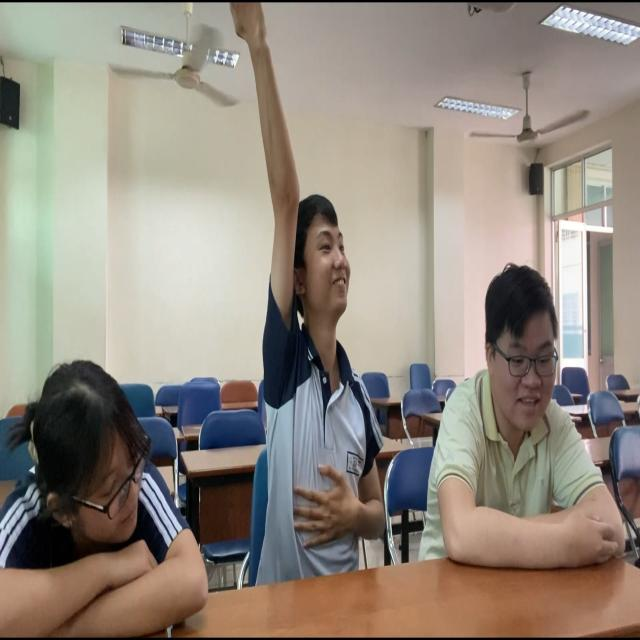raise_hand: (229, 1, 392, 585)
sleep: (2, 339, 215, 640)
